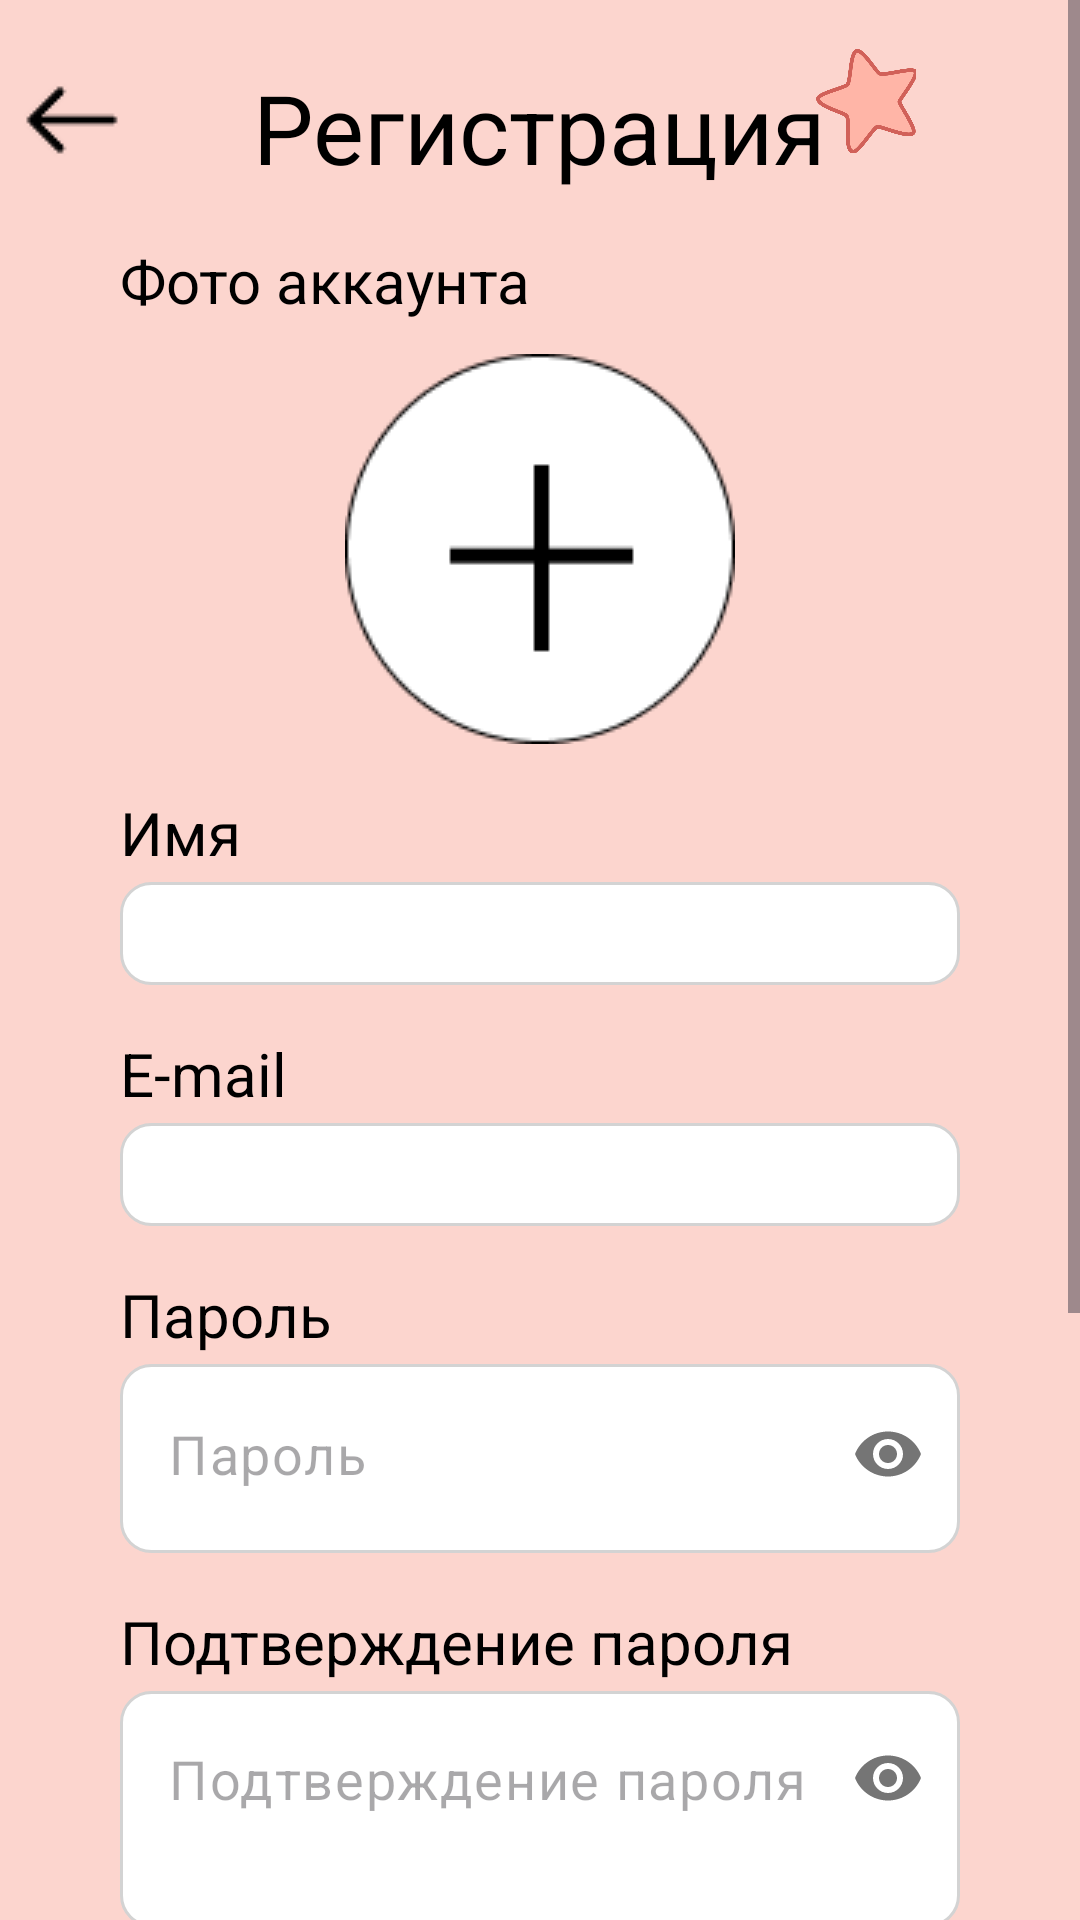

Locate icon controls on the screen. Image size 1080 x 1920, boxes as (x1, y1, x2, y2).
back: (26, 86, 118, 154)
pinkstar: (816, 49, 916, 153)
